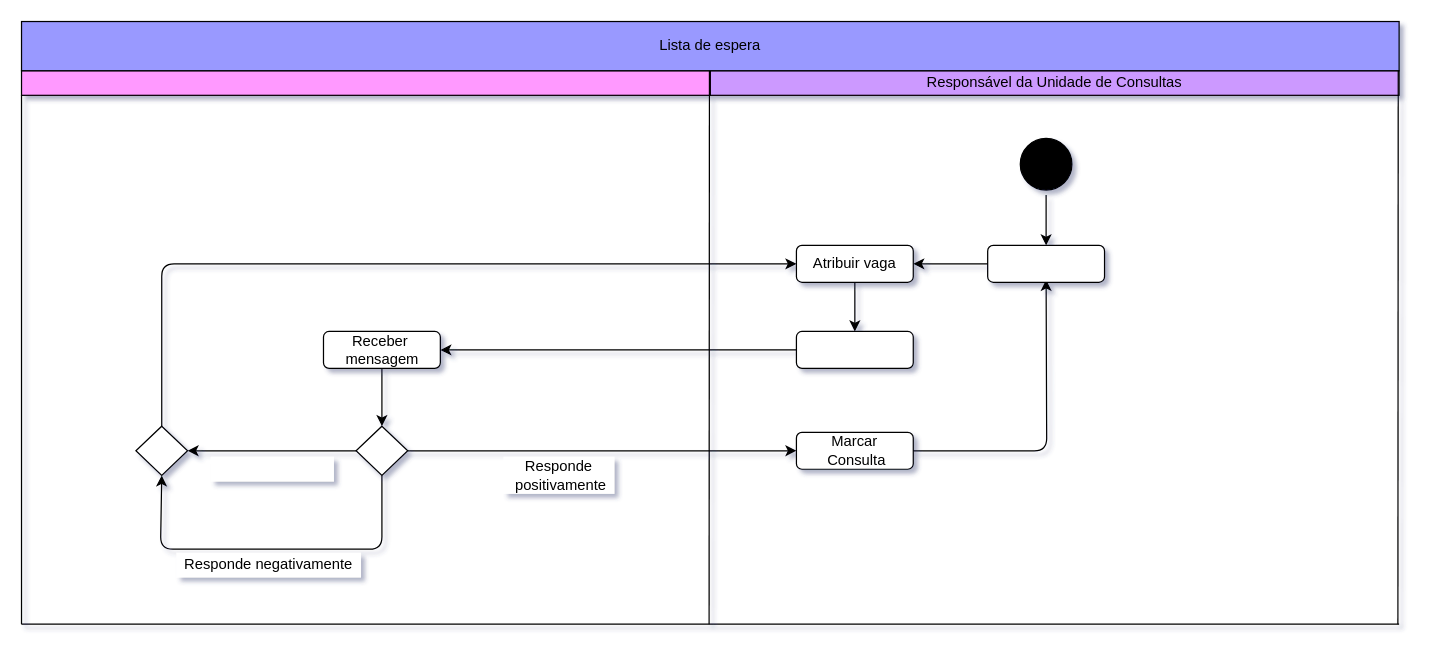
Image size: 1430x654. Some labels were removed from this diagram. Here are the shapes that lost their labels. From the top down, the box of each, then its label:
(20, 69, 710, 95): Utente
(986, 244, 1105, 282): Esperar até existir vaga
(795, 330, 913, 368): Enviar mensagem
(210, 456, 333, 481): Não responde
